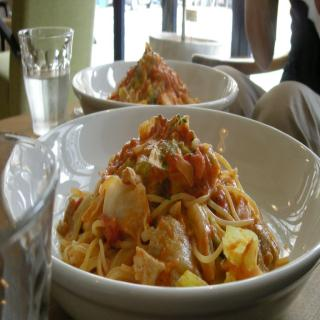Pasta: (62, 114, 290, 280)
